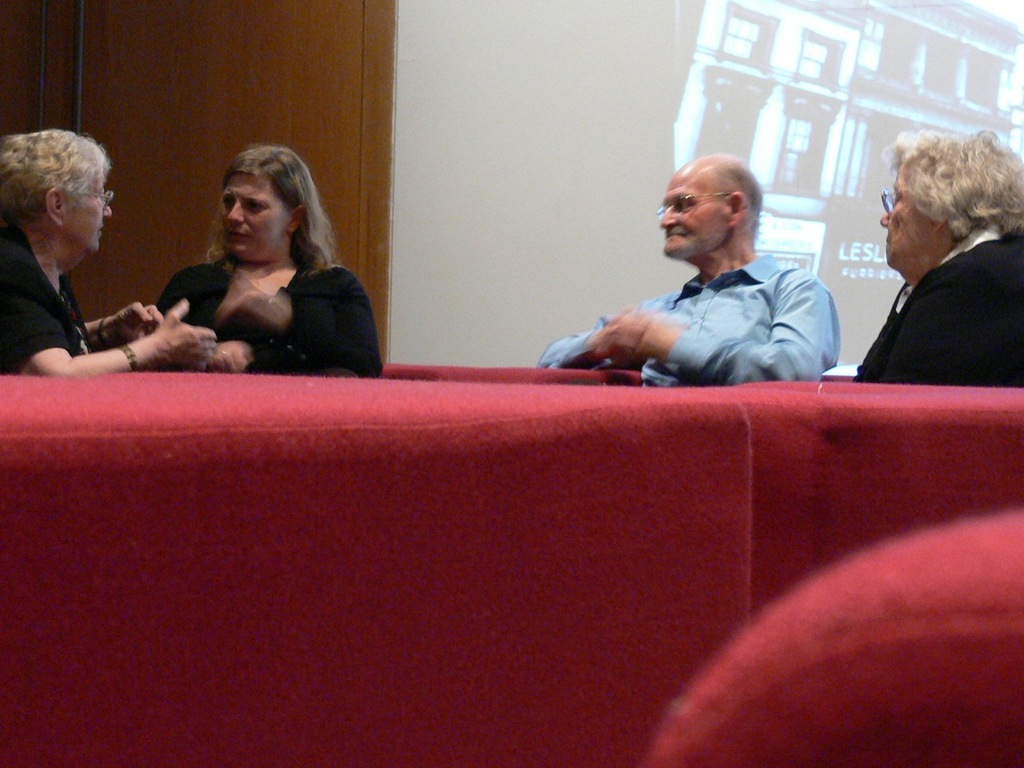Couch: (0, 367, 1023, 767)
